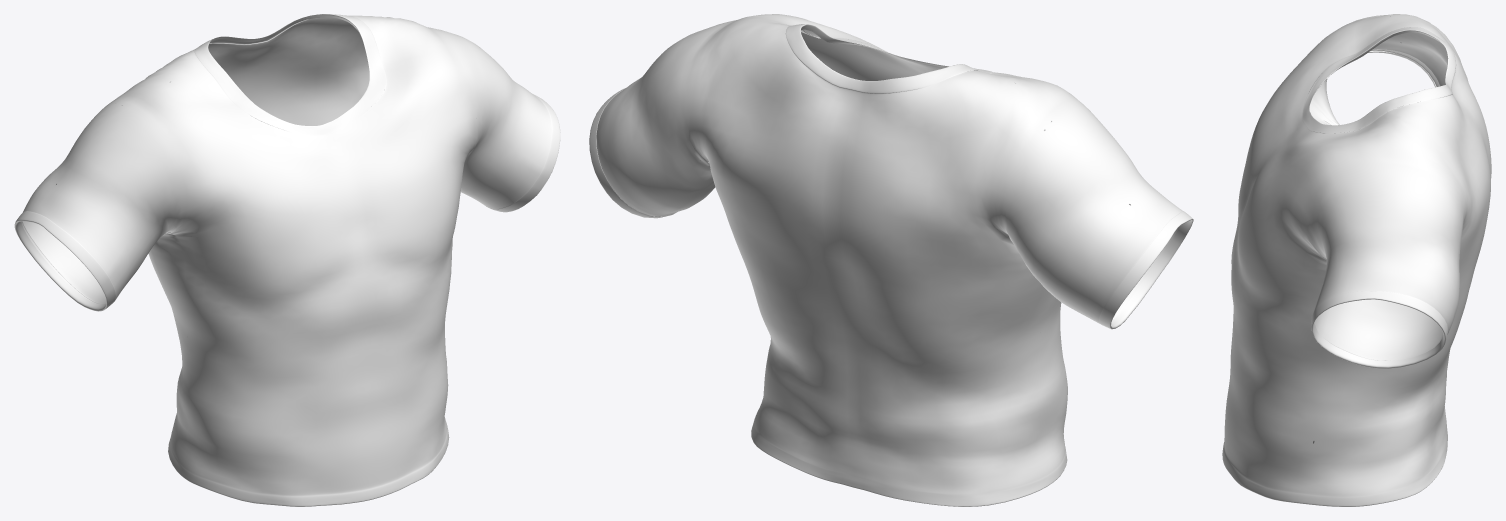
File: Shirt.glb
3 renders of one model, left to right at view 1: azimuth 30°, elevation 25°; view 2: azimuth 150°, elevation 25°; view 3: azimuth 270°, elevation 25°, orthographic. The views are drawn at different scales.
Parts seen in each view (by area): view 1: TShirt_for_Genesis.002; view 2: TShirt_for_Genesis.002; view 3: TShirt_for_Genesis.002.
Part boxes in pixels (x1,y1,x2,y2): TShirt_for_Genesis.002: [14, 14, 560, 506]; TShirt_for_Genesis.002: [589, 14, 1193, 506]; TShirt_for_Genesis.002: [1222, 14, 1491, 506].
Size of the model in its own units: 13.74 by 10.2 by 6.3.
Materials: 1 (1 with a texture image).
